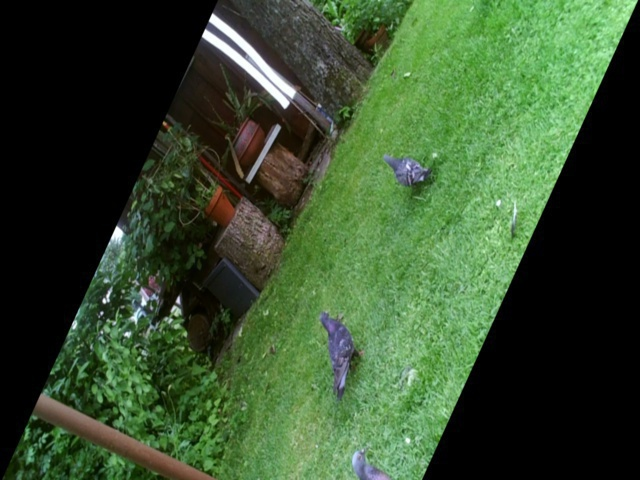Pigeon: (313, 305, 370, 403), (376, 150, 436, 194), (345, 445, 407, 480)
